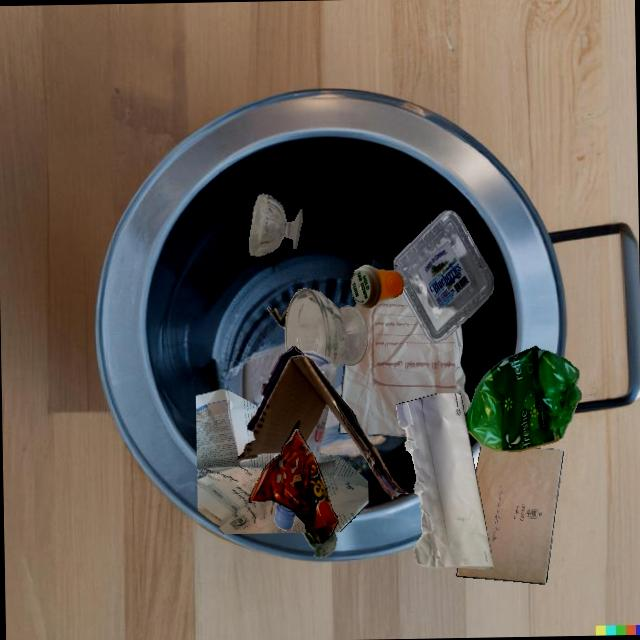cardboard: (237, 345, 408, 499), (268, 292, 339, 309), (267, 306, 288, 328)
glass: (284, 288, 367, 370), (249, 194, 302, 256)
paper: (395, 393, 493, 569), (195, 389, 309, 534), (456, 445, 563, 584), (341, 300, 384, 408), (317, 452, 368, 532), (384, 270, 436, 342), (436, 325, 465, 390), (395, 393, 461, 416), (361, 416, 406, 437)
plastic: (393, 210, 493, 342), (464, 345, 581, 451), (292, 407, 324, 510), (280, 358, 311, 453), (350, 264, 403, 307), (310, 406, 328, 463), (311, 350, 335, 387), (302, 532, 336, 558), (274, 502, 295, 530)
trash: (248, 429, 338, 543)
